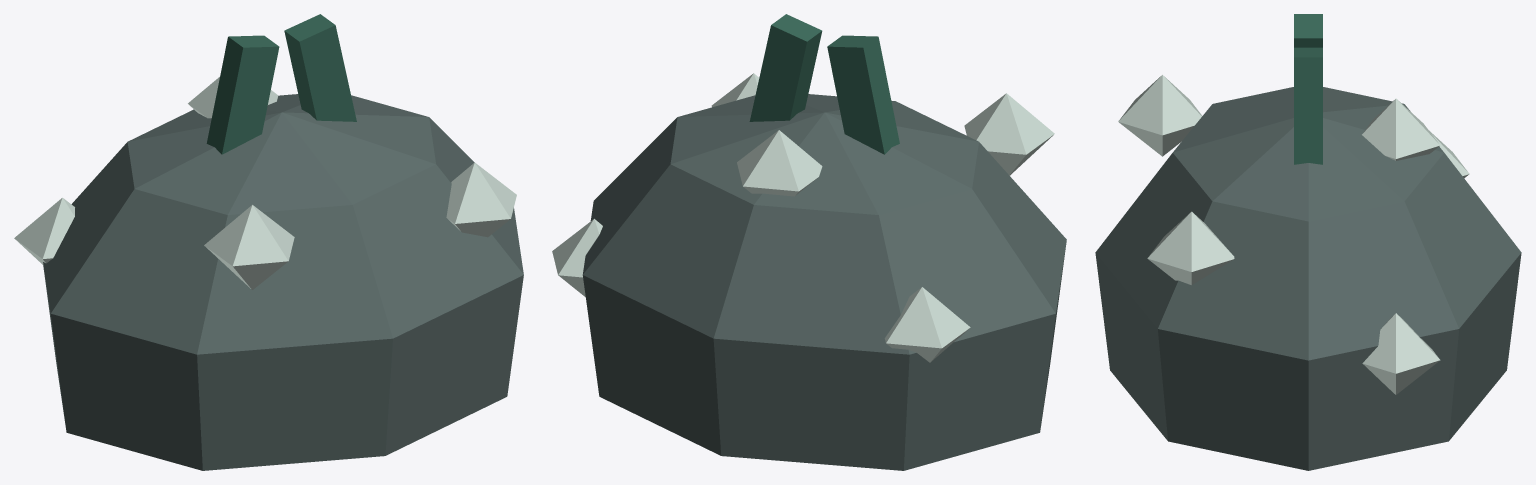
The model's file is env_r14_barnacle_rock.glb.
3 views of the same model, side by side, from view 1: azimuth 30°, elevation 25°; view 2: azimuth 150°, elevation 25°; view 3: azimuth 270°, elevation 25° (orthographic). The views are drawn at different scales.
Visible parts, largest first — view 1: env_r14_barnacle_rock; view 2: env_r14_barnacle_rock; view 3: env_r14_barnacle_rock.
Boxes of the visible parts, x1,y1,x2,y2 form: env_r14_barnacle_rock: [14, 14, 523, 470]; env_r14_barnacle_rock: [552, 14, 1066, 470]; env_r14_barnacle_rock: [1095, 14, 1521, 470].
Size of the model in its own units: 1.8 by 1.3 by 1.5.
Materials: 1 (1 with a texture image).
